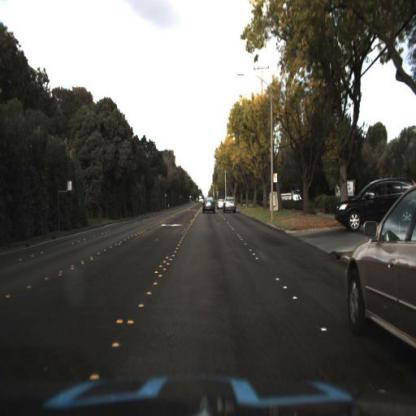car: (344, 175, 416, 367), (339, 175, 416, 233), (222, 189, 243, 217), (199, 191, 221, 216), (216, 195, 227, 211)
truck: (290, 182, 305, 206)
